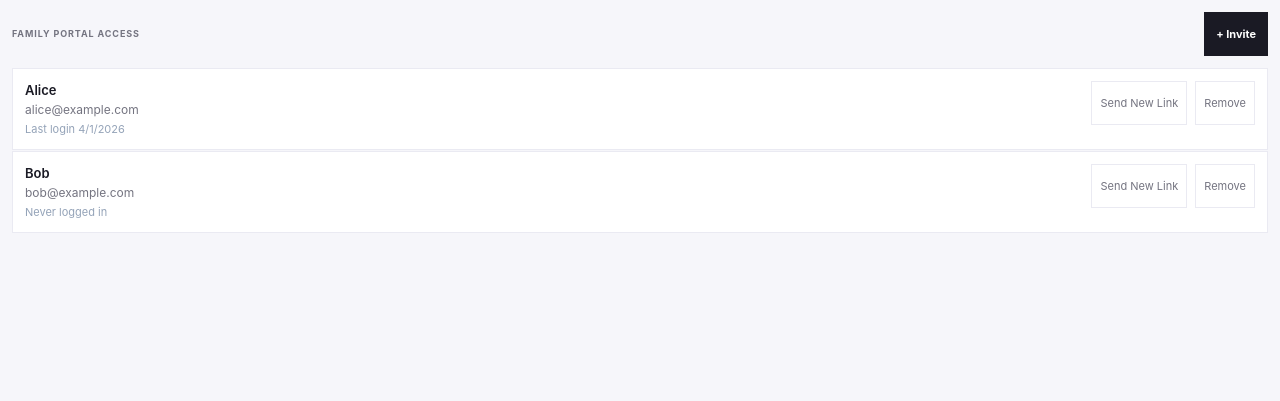
Test: FamilyPortalTab › shows expiry note after generation
Click the button "+ Invite" at {"x": 1236, "y": 34}, box [1204,12,1268,56]
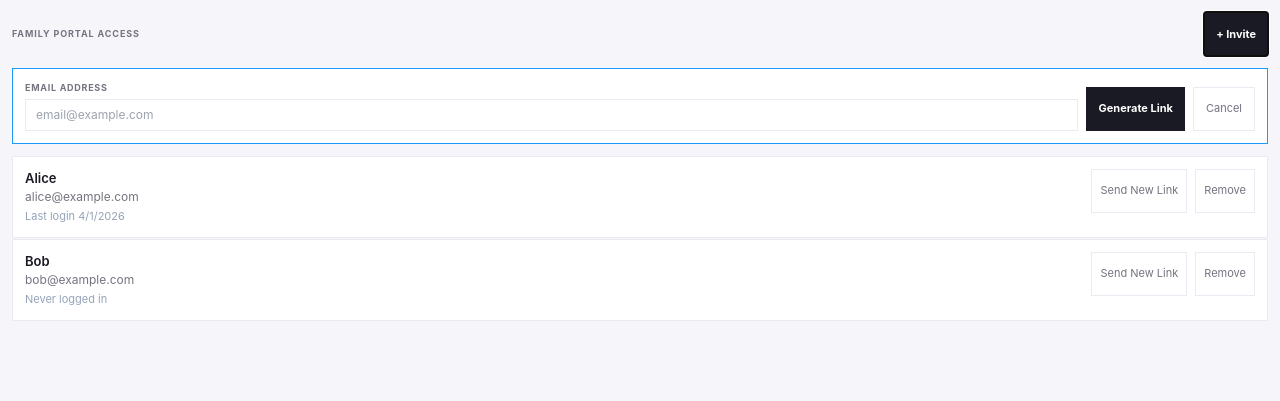
Type "exp@example.com" into the field with placeholder "email@example.com" at {"x": 552, "y": 114}, box [25,98,1078,130]
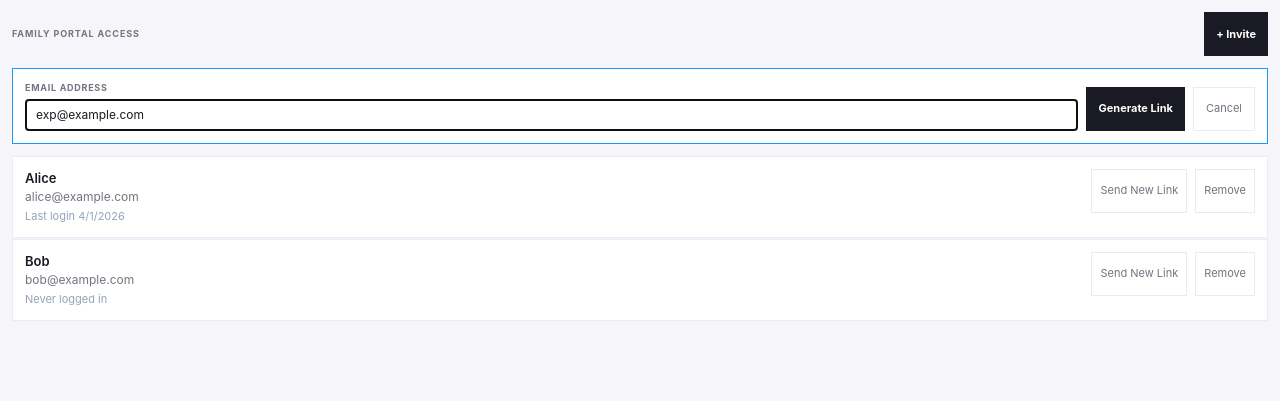
Click the button "Generate Link" at {"x": 1136, "y": 108}, box [1086,86,1185,130]
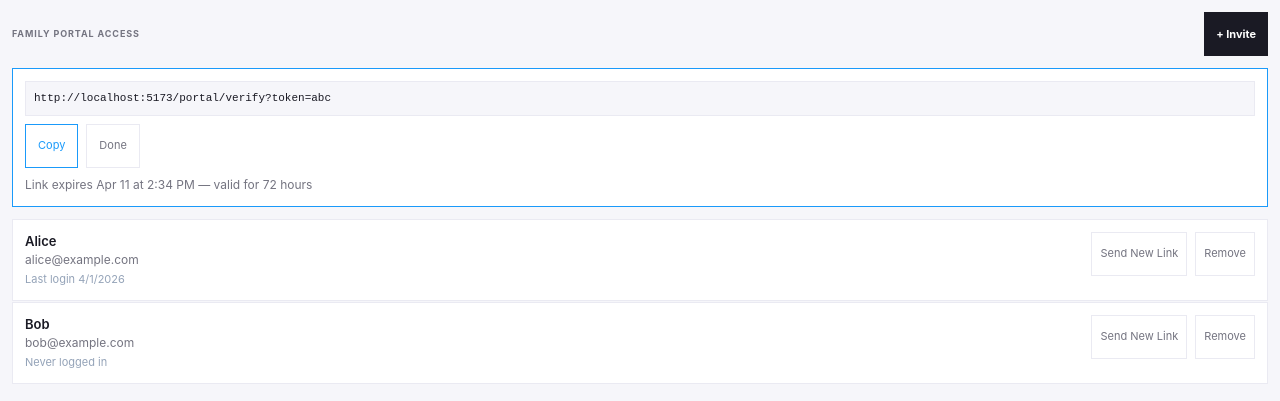
Expected: the text "Link expires Apr 11 at 2:34 PM — valid for 72 hours" is shown, [25,176,312,192]
